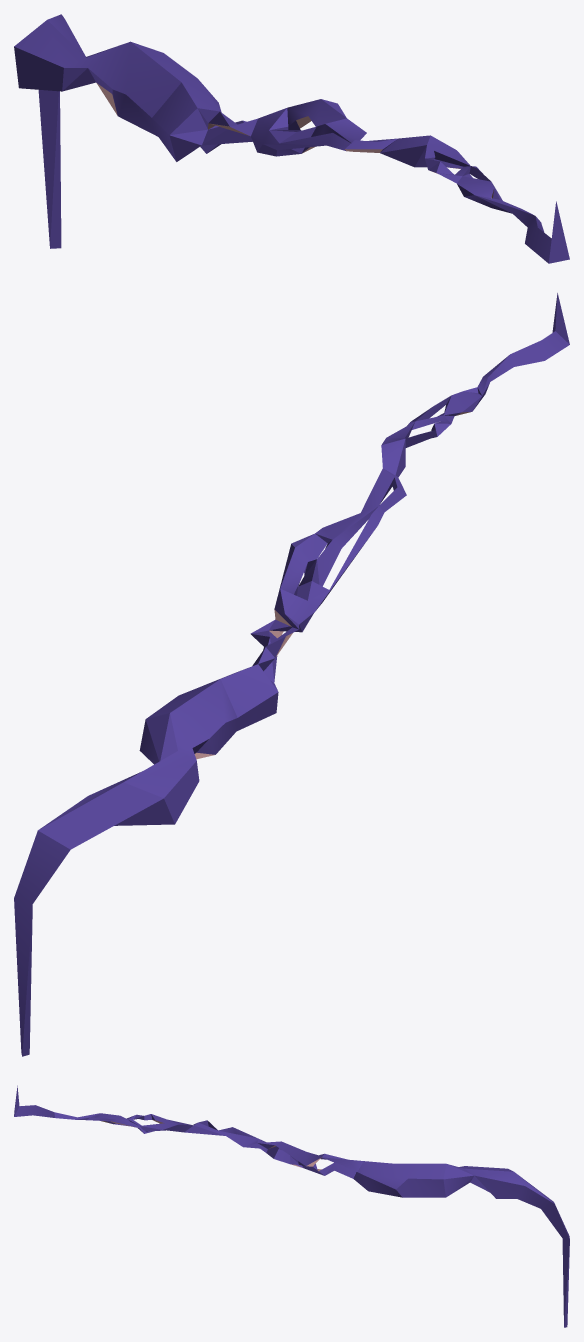
Rendered from Tunnel_0.fbx.
3 views of the same model, one above another, from view 1: azimuth 30°, elevation 25°; view 2: azimuth 150°, elevation 25°; view 3: azimuth 270°, elevation 25° (orthographic). The views are drawn at different scales.
Parts seen in each view (by area): view 1: Tunnel_0; view 2: Tunnel_0; view 3: Tunnel_0.
Boxes of the visible parts, bbox=[...] form: Tunnel_0: bbox=[14, 14, 569, 263]; Tunnel_0: bbox=[14, 293, 569, 1056]; Tunnel_0: bbox=[14, 1085, 569, 1327].
Bounding box in the file's own units: 12719 × 51348 × 112166.
